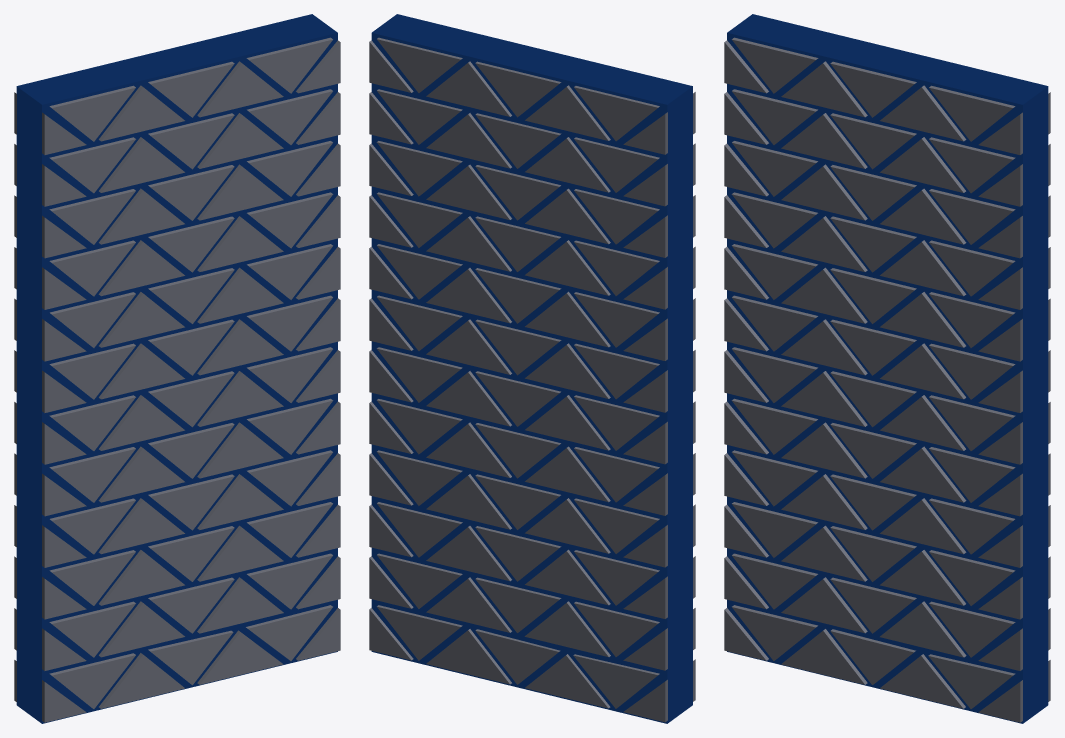
The model's file is FuturisticWall.glb.
3 renders of one model, left to right at view 1: azimuth 30°, elevation 25°; view 2: azimuth 150°, elevation 25°; view 3: azimuth 330°, elevation 25°, orthographic.
Parts seen in each view (by area): view 1: wall_triangles; view 2: wall_triangles; view 3: wall_triangles.
Boxes of the visible parts, x1=… form: wall_triangles: x1=14, y1=14, x2=340, y2=723; wall_triangles: x1=369, y1=14, x2=695, y2=723; wall_triangles: x1=724, y1=14, x2=1050, y2=723.
Size of what is drawn, in the model's own units: 2 by 4 by 0.3547.
Materials: 2 (2 with a texture image).
